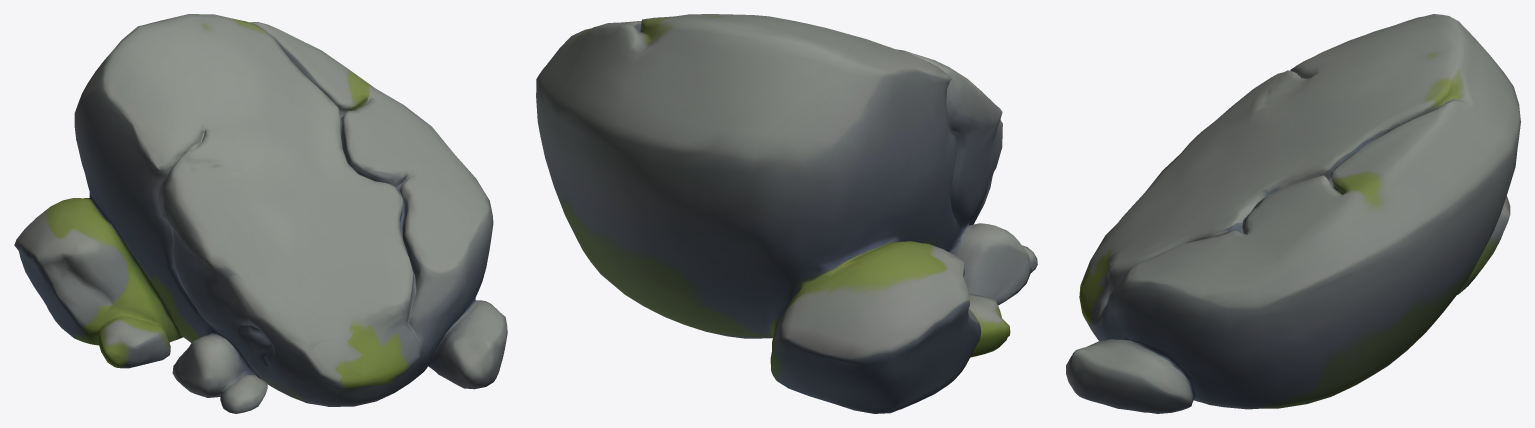
File: selected.glb
The picture shows the model from 3 angles, left to right: view 1: azimuth 30°, elevation 25°; view 2: azimuth 150°, elevation 25°; view 3: azimuth 270°, elevation 25°; orthographic projection. The views are drawn at different scales.
Visible parts, largest first — view 1: tripo_node_cc667717-3465-4f3b-98ab-2a7c0059e7bc; view 2: tripo_node_cc667717-3465-4f3b-98ab-2a7c0059e7bc; view 3: tripo_node_cc667717-3465-4f3b-98ab-2a7c0059e7bc.
Part boxes in pixels (x1,y1,x2,y2): tripo_node_cc667717-3465-4f3b-98ab-2a7c0059e7bc: [14, 14, 507, 413]; tripo_node_cc667717-3465-4f3b-98ab-2a7c0059e7bc: [536, 14, 1037, 413]; tripo_node_cc667717-3465-4f3b-98ab-2a7c0059e7bc: [1066, 14, 1520, 413].
Size of the model in its own units: 0.998 by 0.6973 by 0.998.
Materials: 1 (1 with a texture image).
